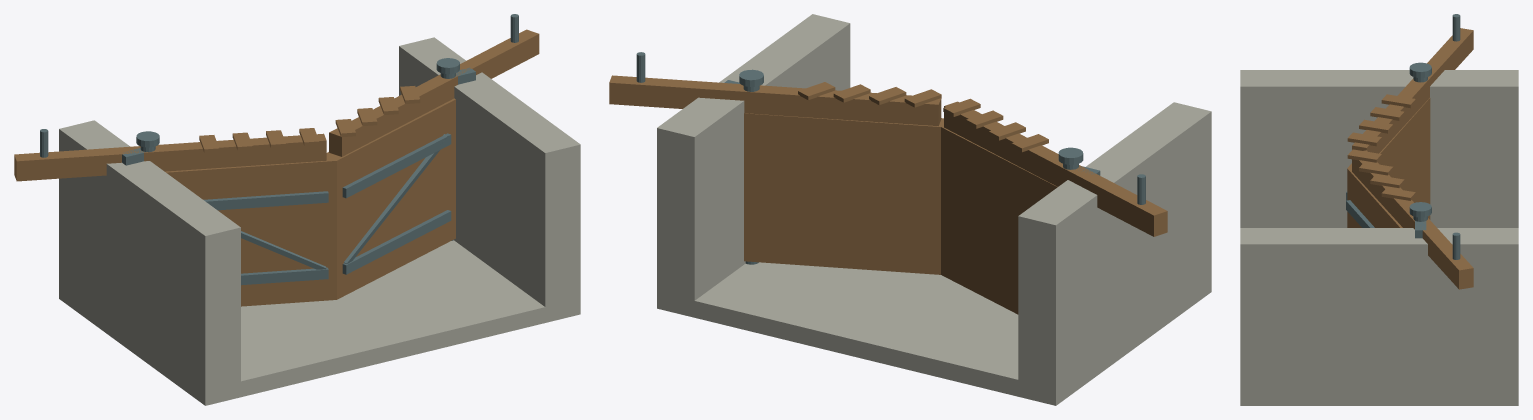
3 views of the same model, side by side, from view 1: azimuth 30°, elevation 25°; view 2: azimuth 150°, elevation 25°; view 3: azimuth 270°, elevation 25° (orthographic). The views are drawn at different scales.
Parts seen in each view (by area): view 1: WholeShortOpenCanalMouth, WholeMitredGateLeafRight, WholeMitredGateLeafLeft, WholeLongShoreBalanceBeamLeft, WholeLongShoreBalanceBeamRight, WholeFaceHorizontalRailLeft1, WholeFaceHorizontalRailRight1, WholeFaceHorizontalRailRight0, WholeFaceHorizontalRailLeft0, WholeFaceDiagonalBraceRight, WholeFaceDiagonalBraceLeft; view 2: WholeShortOpenCanalMouth, WholeMitredGateLeafRight, WholeMitredGateLeafLeft, WholeLongShoreBalanceBeamRight, WholeLongShoreBalanceBeamLeft; view 3: WholeShortOpenCanalMouth, WholeMitredGateLeafLeft, WholeLongShoreBalanceBeamRight, WholeLongShoreBalanceBeamLeft, WholeMitredGateLeafRight, WholeFaceHorizontalRailRight1, WholeTopFootwayPlankLeft2, WholeTopFootwayPlankLeft3, WholeTopFootwayPlankRight0, WholeTopFootwayPlankLeft0, WholeTopFootwayPlankLeft1, WholeTopFootwayPlankRight1 (+4 smaller).
Boxes of the visible parts, x1,y1,x2,y2 form: WholeShortOpenCanalMouth: (59,37,580,405); WholeMitredGateLeafRight: (327,98,455,299); WholeMitredGateLeafLeft: (165,153,336,306); WholeLongShoreBalanceBeamLeft: (14,133,326,181); WholeLongShoreBalanceBeamRight: (329,29,539,156); WholeFaceHorizontalRailLeft1: (203,191,328,210); WholeFaceHorizontalRailRight1: (342,133,451,198); WholeFaceHorizontalRailRight0: (342,210,451,274); WholeFaceHorizontalRailLeft0: (241,267,328,285); WholeFaceDiagonalBraceRight: (344,134,447,263); WholeFaceDiagonalBraceLeft: (241,231,326,269); WholeShortOpenCanalMouth: (657,14,1211,405); WholeMitredGateLeafRight: (744,113,943,274); WholeMitredGateLeafLeft: (941,125,1057,314); WholeLongShoreBalanceBeamRight: (609,75,941,126); WholeLongShoreBalanceBeamLeft: (944,101,1167,236); WholeShortOpenCanalMouth: (1240,70,1518,405); WholeMitredGateLeafLeft: (1347,98,1430,219); WholeLongShoreBalanceBeamRight: (1352,150,1473,289); WholeLongShoreBalanceBeamLeft: (1352,28,1473,153); WholeMitredGateLeafRight: (1347,168,1402,227); WholeFaceHorizontalRailRight1: (1346,200,1374,227); WholeTopFootwayPlankLeft2: (1370,107,1404,120); WholeTopFootwayPlankLeft3: (1381,94,1415,108); WholeTopFootwayPlankRight0: (1347,149,1381,162); WholeTopFootwayPlankLeft0: (1347,132,1381,146); WholeTopFootwayPlankLeft1: (1359,119,1393,133); WholeTopFootwayPlankRight1: (1359,162,1393,175).
Bounding box in the file's own units: 5.15 × 1.92 × 2.5.
